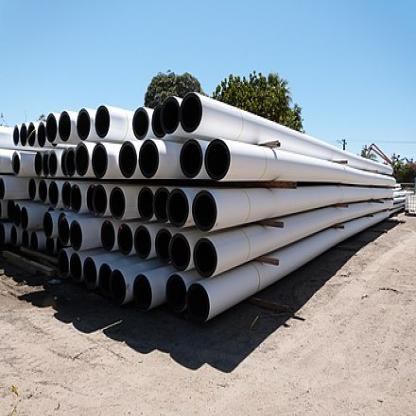PVC: (0, 92, 396, 322)
